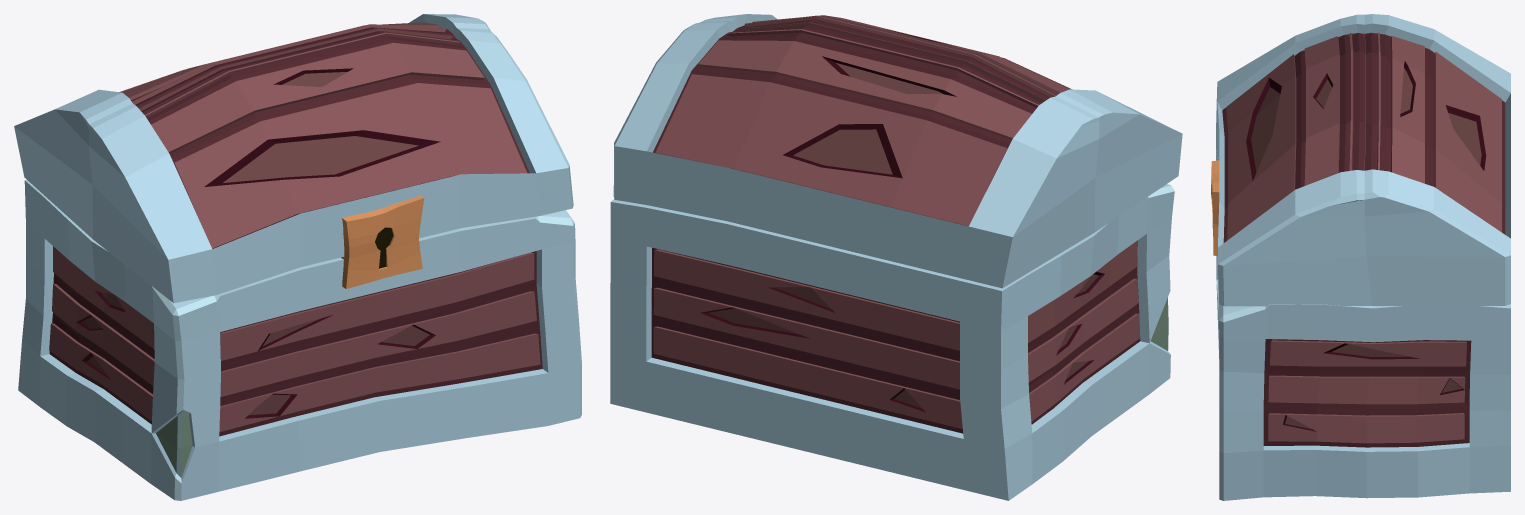
3 renders of one model, left to right at view 1: azimuth 30°, elevation 25°; view 2: azimuth 150°, elevation 25°; view 3: azimuth 270°, elevation 25°, orthographic. The views are drawn at different scales.
Visible parts, largest first — view 1: Cube_0; view 2: Cube_0; view 3: Cube_0.
Boxes of the visible parts, <box> form: Cube_0: <box>14,14,581,500</box>; Cube_0: <box>610,14,1182,500</box>; Cube_0: <box>1211,14,1510,500</box>.
Size of the model in its own units: 2.14 by 1.73 by 1.44.
Materials: 1 (1 with a texture image).
